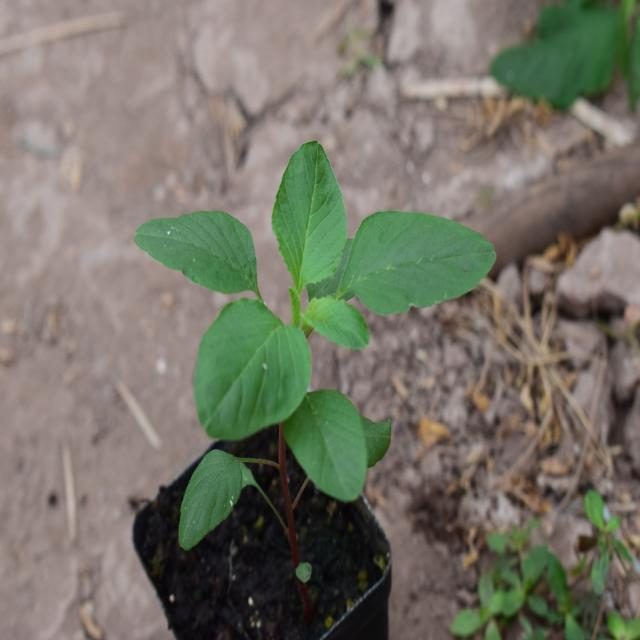pigweed: (150, 150, 494, 483)
